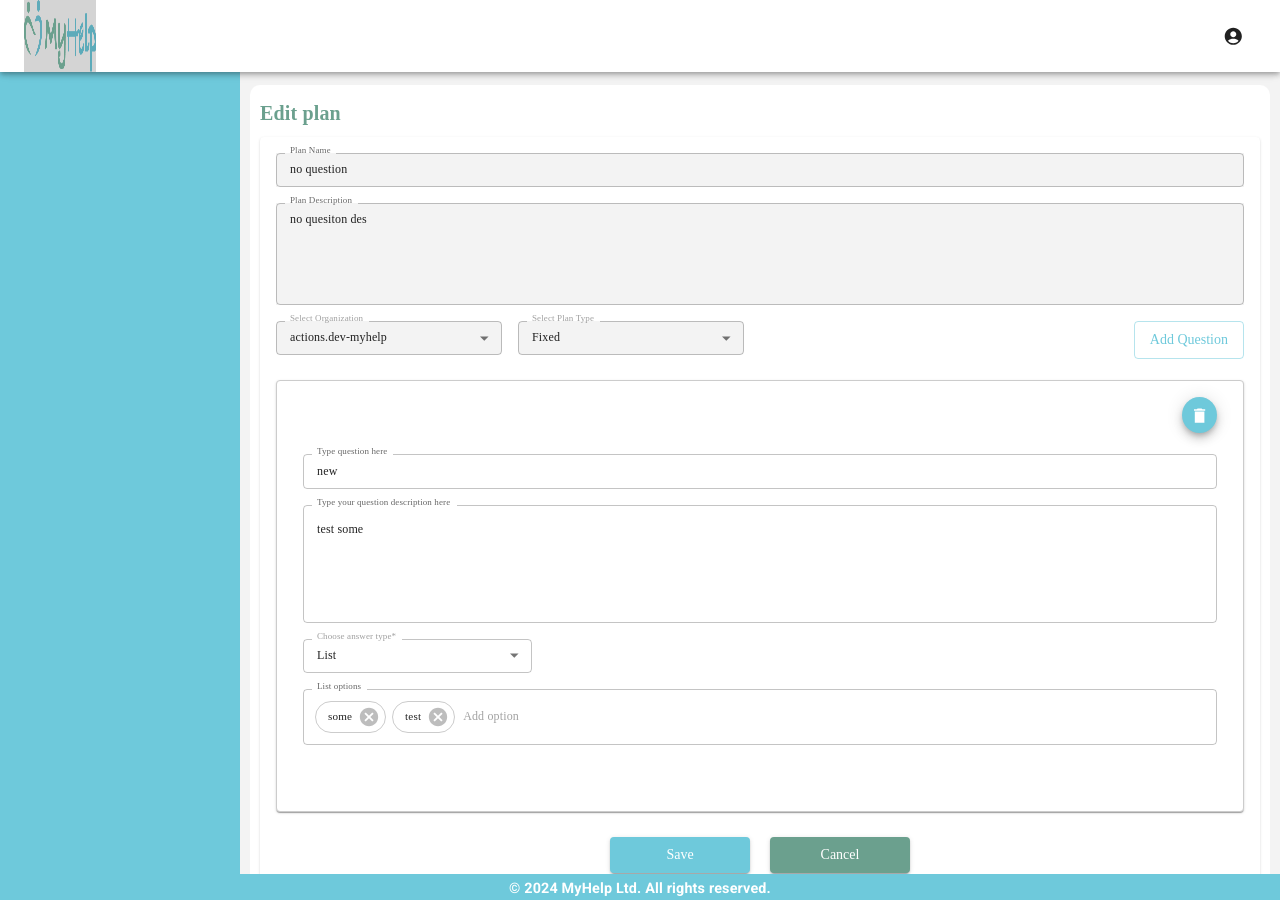
Test: Admin safety plan list › should remove question box on press of delete confirm
expect the text box "test some" is shown: met, box [317,521,1203,606]
Click the button with test id "iconButtonQuestion_0" at x=1200, y=415, box [1182,397,1217,433]
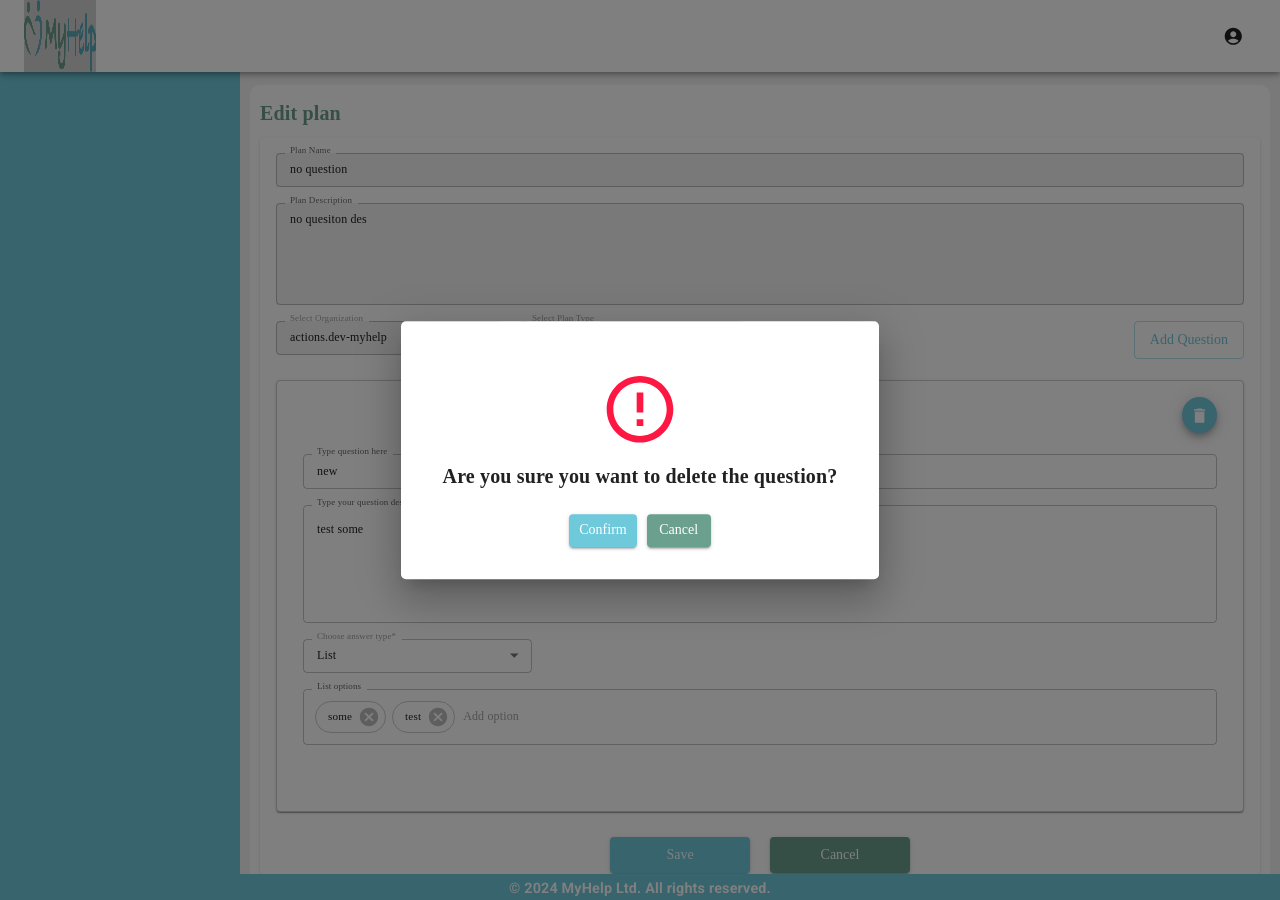
expect the button "Confirm" is shown: met
Click the button "Confirm" at x=603, y=531, box [569,514,637,547]
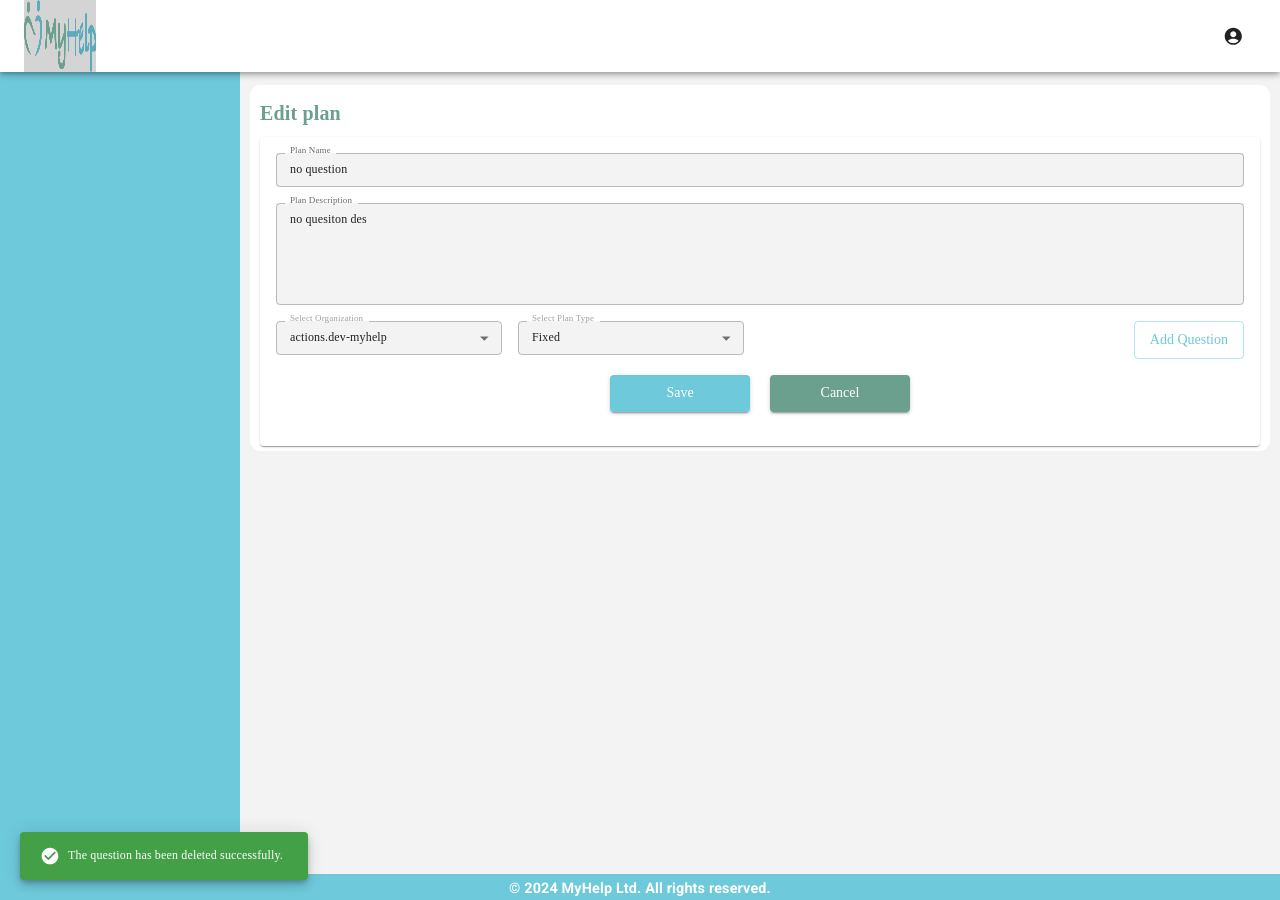
expect the text "The question has been deleted successfully." is shown: met, box [40,846,283,866]
